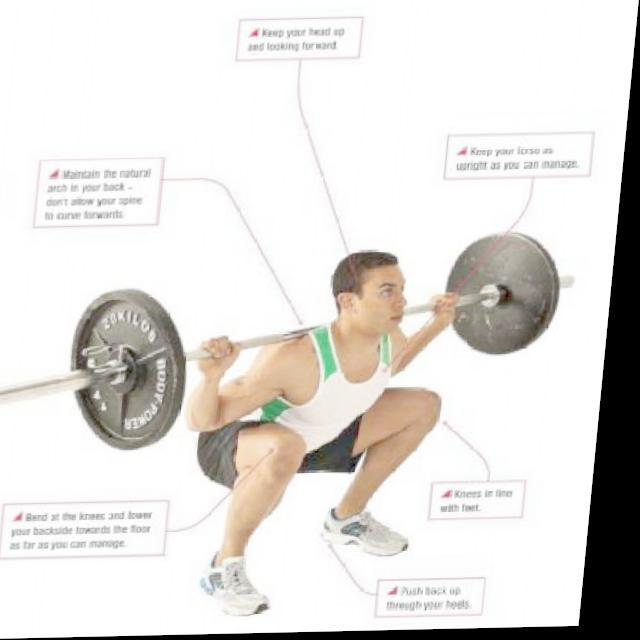barbell: (1, 284, 194, 457)
